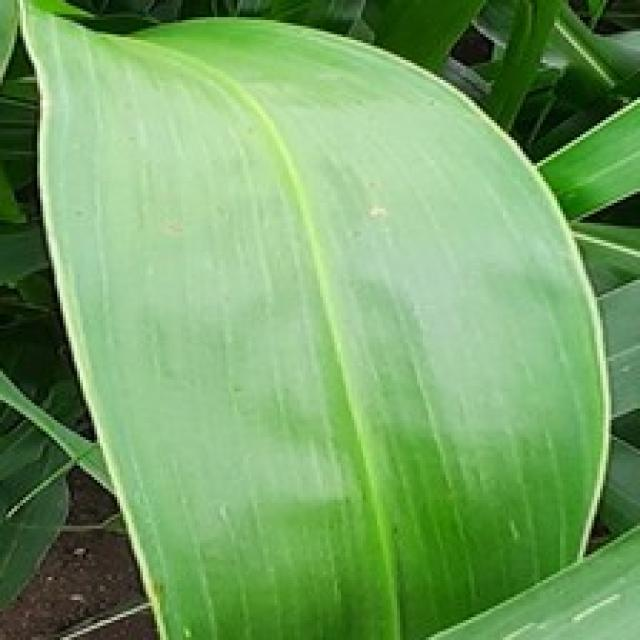Corn: (14, 0, 614, 637)
